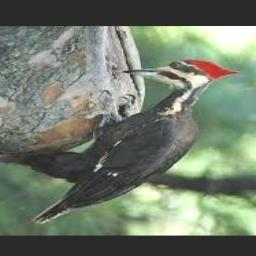Woodpecker: (30, 60, 240, 222)
